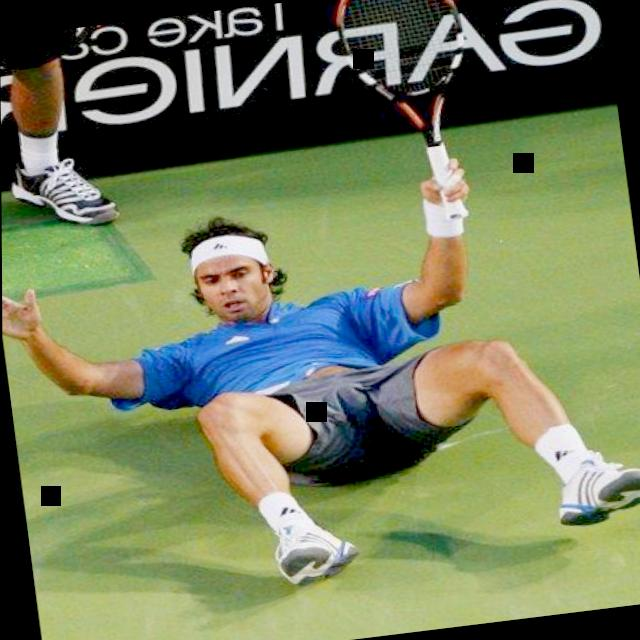Fall-Detected: (0, 65, 640, 620)
